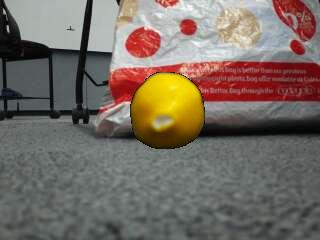lemon: (131, 74, 203, 149)
